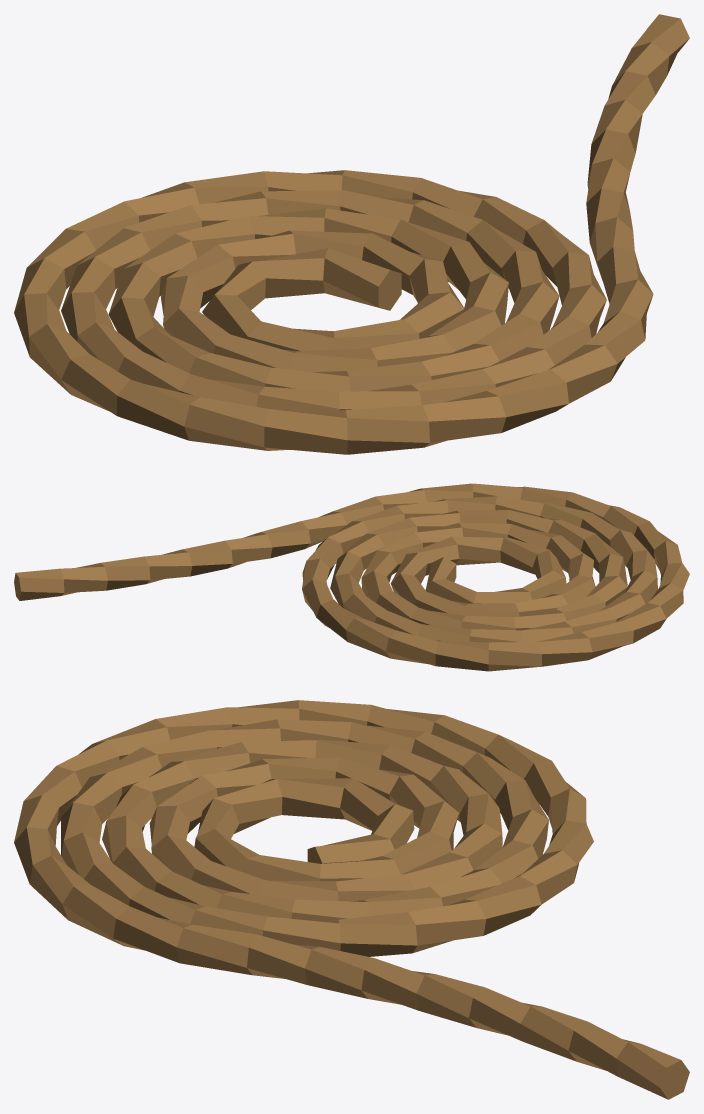
File: coiled-rope_final.glb
The picture shows the model from 3 angles, top to bottom: view 1: azimuth 30°, elevation 25°; view 2: azimuth 150°, elevation 25°; view 3: azimuth 270°, elevation 25°; orthographic projection. The views are drawn at different scales.
Visible parts, largest first — view 1: SM_CoiledRope; view 2: SM_CoiledRope; view 3: SM_CoiledRope.
Boxes of the visible parts, x1,y1,x2,y2 form: SM_CoiledRope: (14,14,689,454); SM_CoiledRope: (14,483,689,671); SM_CoiledRope: (14,700,689,1099).
Size of the model in its own units: 0.5464 by 0.026 by 0.4175.
